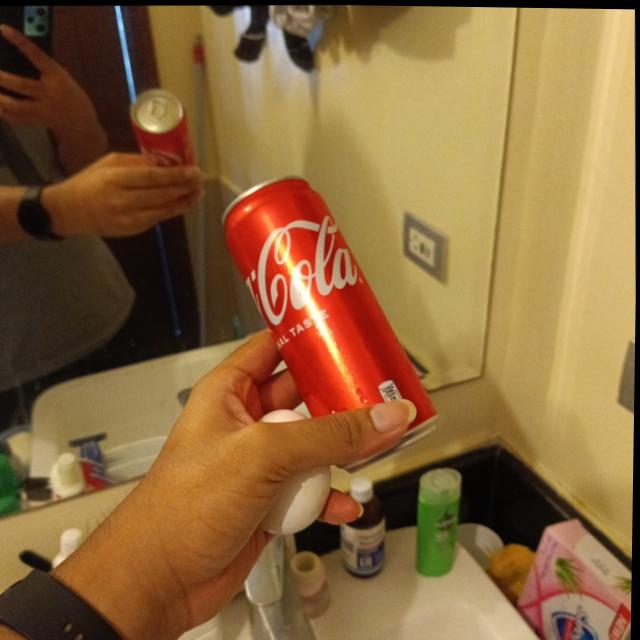coke: (225, 169, 444, 468), (131, 88, 197, 199)
egg: (256, 412, 332, 535)
